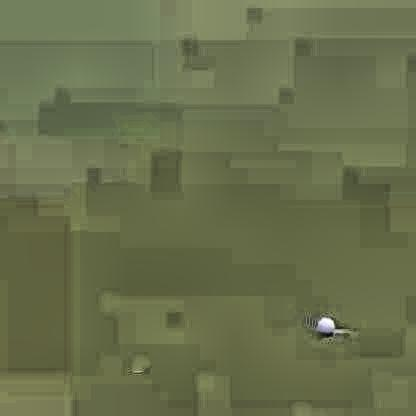golfball: (315, 313, 333, 332)
